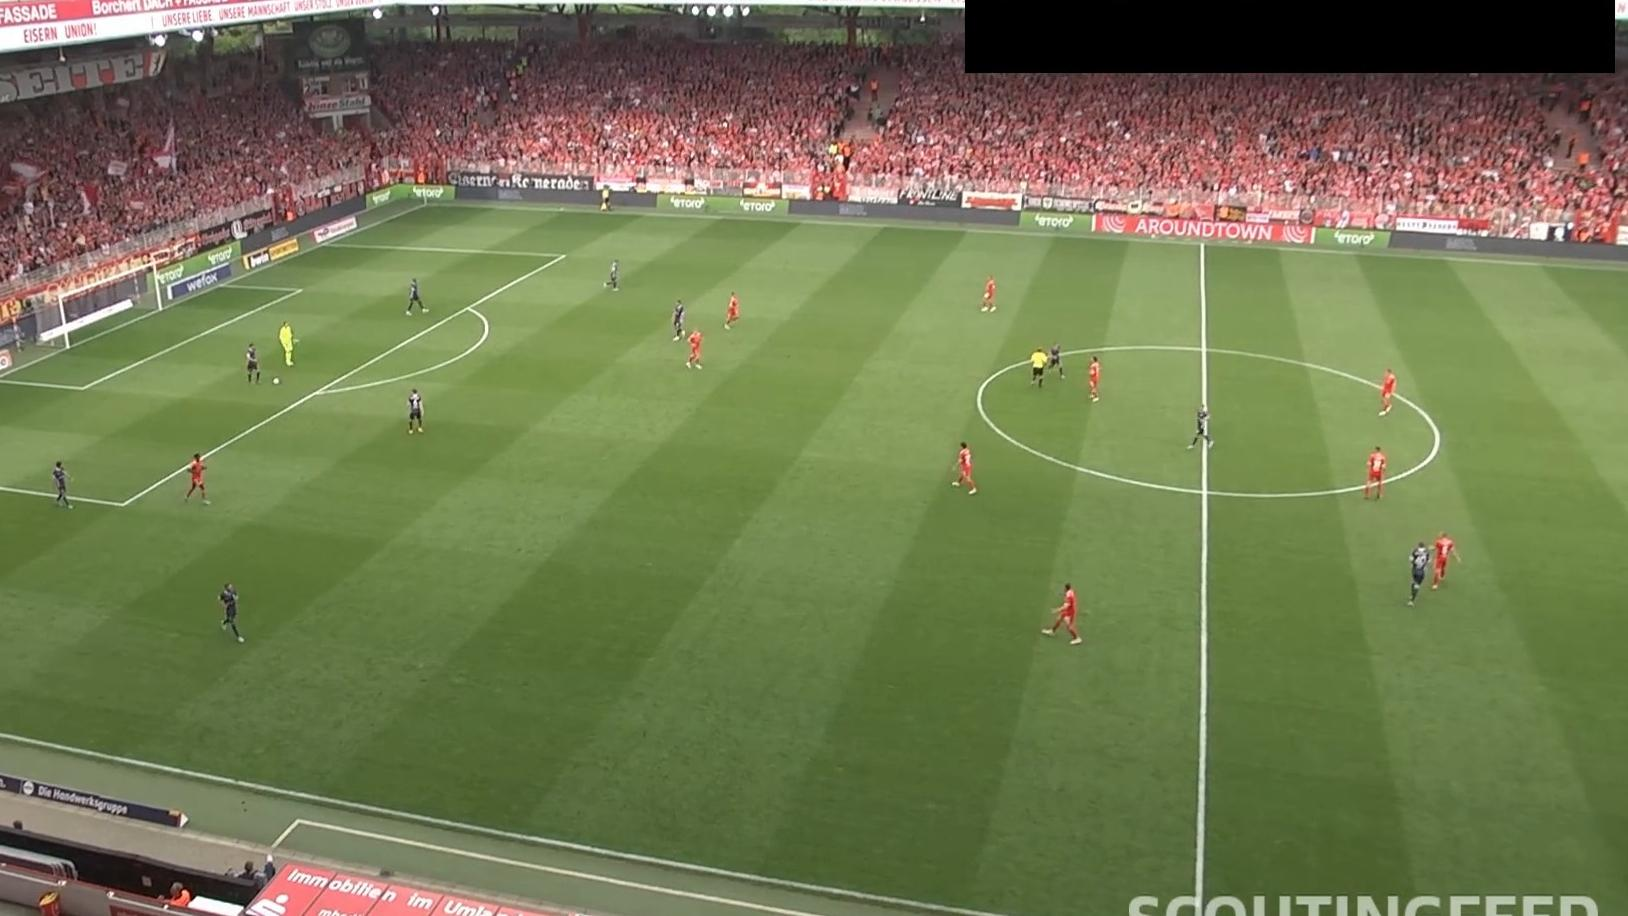ball: (272, 376, 281, 386)
